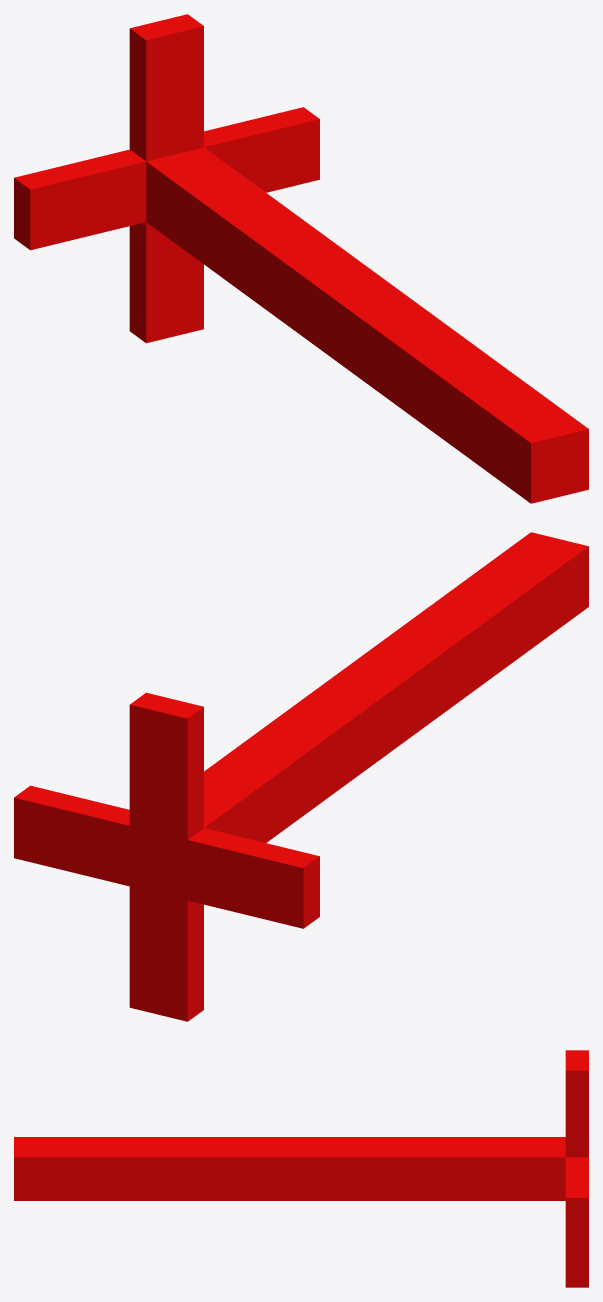
The model's file is star.obj.
The picture shows the model from 3 angles, top to bottom: view 1: azimuth 30°, elevation 25°; view 2: azimuth 150°, elevation 25°; view 3: azimuth 270°, elevation 25°; orthographic projection. The views are drawn at different scales.
Parts seen in each view (by area): view 1: Mesh1 Model; view 2: Mesh1 Model; view 3: Mesh1 Model.
Boxes of the visible parts, x1,y1,x2,y2 form: Mesh1 Model: (14, 14, 588, 503); Mesh1 Model: (14, 532, 588, 1021); Mesh1 Model: (14, 1050, 588, 1287).
Size of the model in its own units: 0.1 by 0.1 by 0.24.
